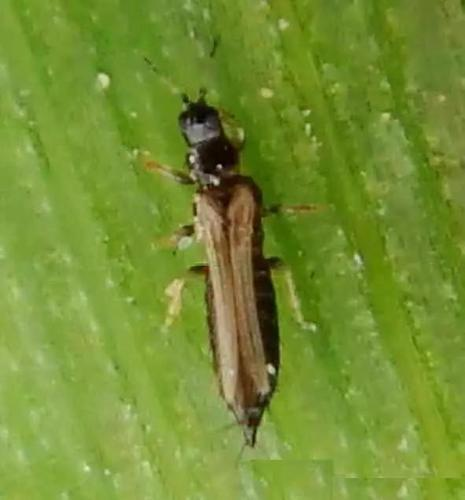Phlaeothripidae: (119, 34, 339, 459)
